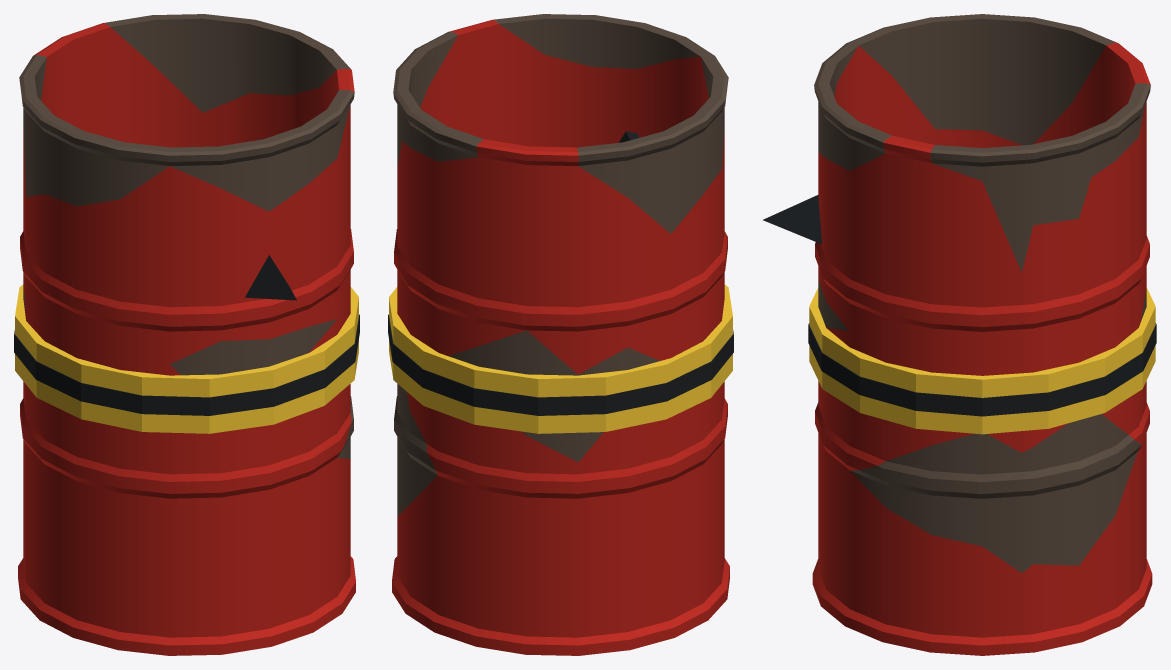
File: item_barrel.glb
The picture shows the model from 3 angles, left to right: view 1: azimuth 30°, elevation 25°; view 2: azimuth 150°, elevation 25°; view 3: azimuth 270°, elevation 25°; orthographic projection.
Parts seen in each view (by area): view 1: item_mesh; view 2: item_mesh; view 3: item_mesh.
Boxes of the visible parts, left/top/right/bottom form: item_mesh: left=14, top=14, right=359, bottom=655; item_mesh: left=388, top=14, right=733, bottom=655; item_mesh: left=763, top=14, right=1156, bottom=655.
Size of the model in its own units: 0.6934 by 1.1 by 0.7849.
1 material, 1 textured.
